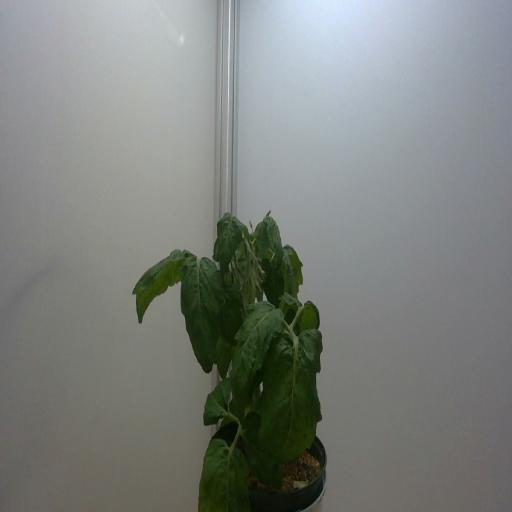Tomato-Leaves-Cupboard-: (259, 331, 325, 464), (232, 306, 284, 419), (180, 249, 224, 380), (128, 246, 191, 332), (195, 437, 254, 512), (244, 406, 284, 492), (282, 288, 326, 339), (199, 374, 231, 430), (212, 216, 240, 280), (280, 242, 306, 292), (300, 329, 324, 370), (268, 216, 287, 256), (250, 219, 268, 255), (214, 340, 231, 378), (240, 224, 250, 242)
